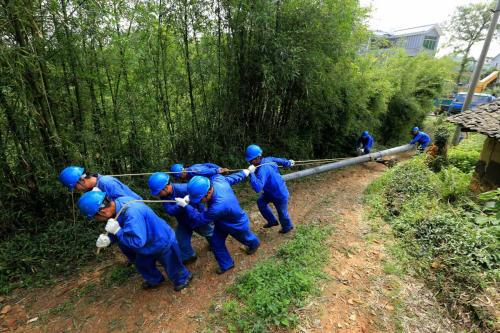helmet: (76, 191, 114, 217), (186, 174, 215, 205), (58, 164, 90, 191), (148, 171, 175, 198), (243, 142, 263, 165), (170, 161, 188, 178), (411, 123, 421, 135), (359, 129, 371, 139)
person: (77, 194, 190, 289), (186, 176, 259, 271), (242, 144, 298, 232), (145, 172, 192, 264), (53, 164, 140, 203), (166, 161, 232, 183), (357, 128, 377, 159), (410, 124, 430, 153)
